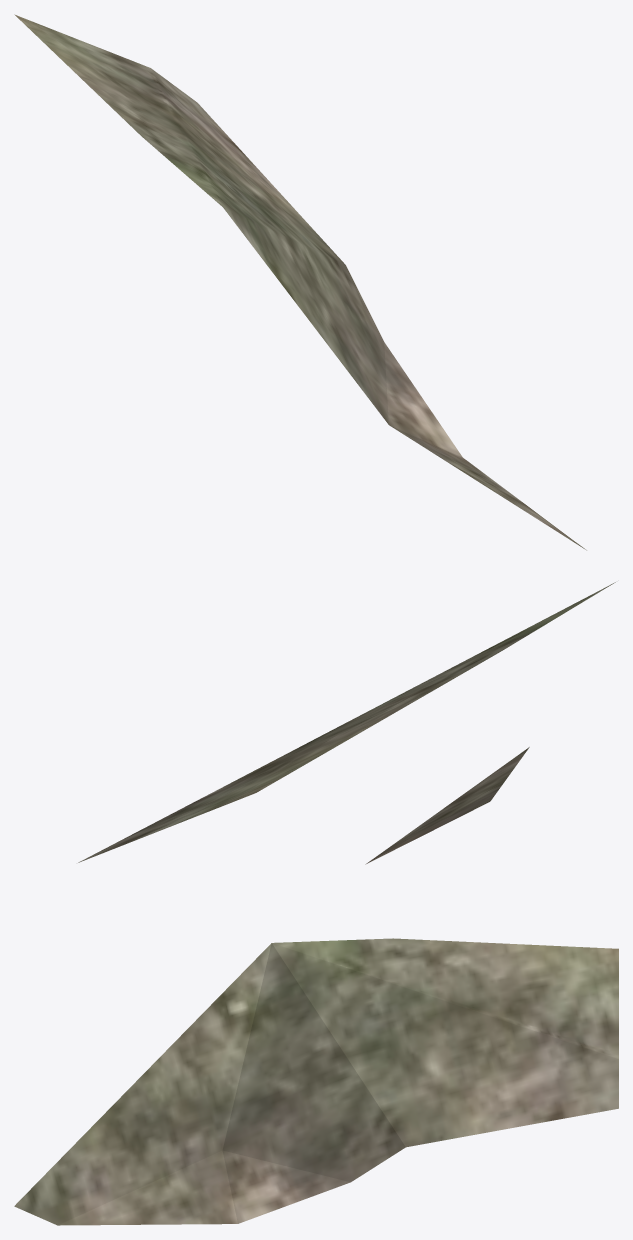
3 views of the same model, one above another, from view 1: azimuth 30°, elevation 25°; view 2: azimuth 150°, elevation 25°; view 3: azimuth 270°, elevation 25° (orthographic). The views are drawn at different scales.
Size of the model in its own units: 0.52 by 0.6789 by 1.75.
Materials: 1 (1 with a texture image).
